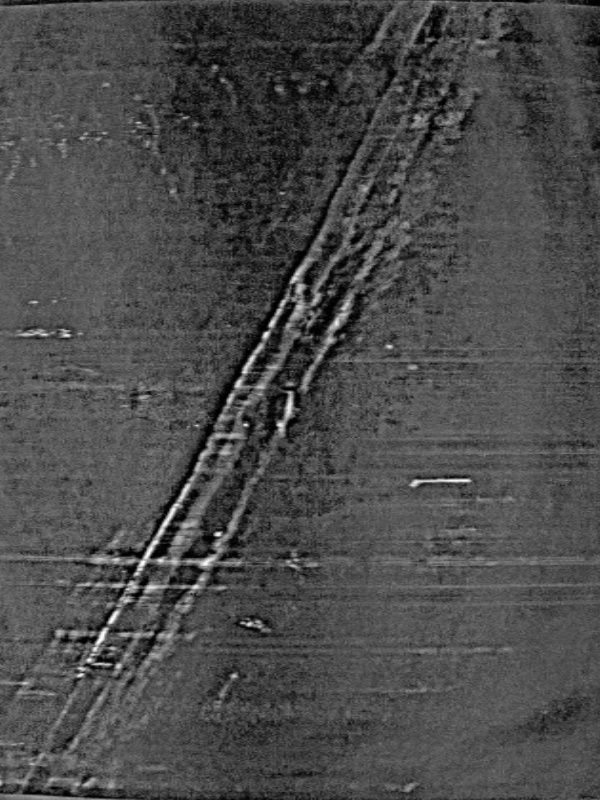splice_vulcanized: (1, 3, 502, 789)
